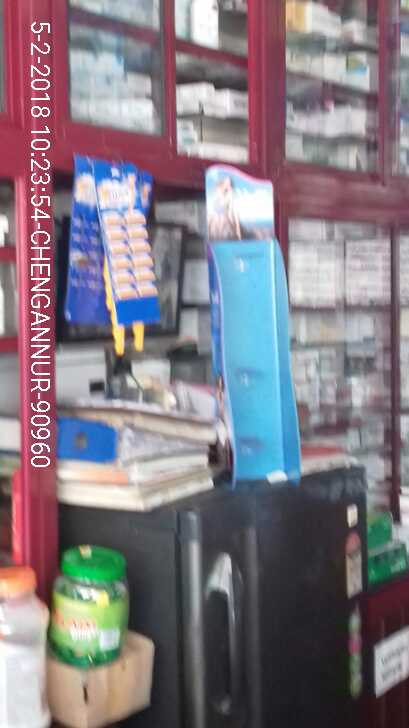reject: (96, 200, 140, 253)
